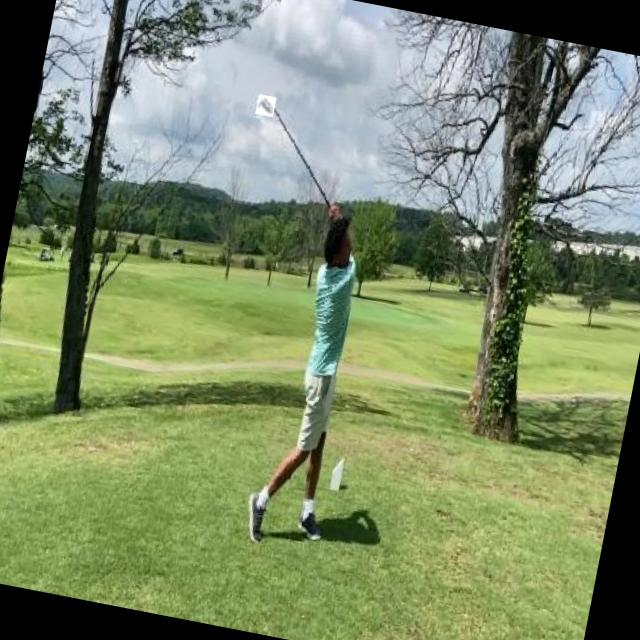club head: (256, 94, 276, 117)
